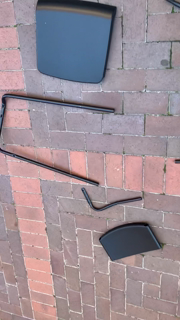Back: (98, 220, 164, 264)
L pipe: (81, 183, 145, 214)
Seat: (36, 1, 117, 86)
